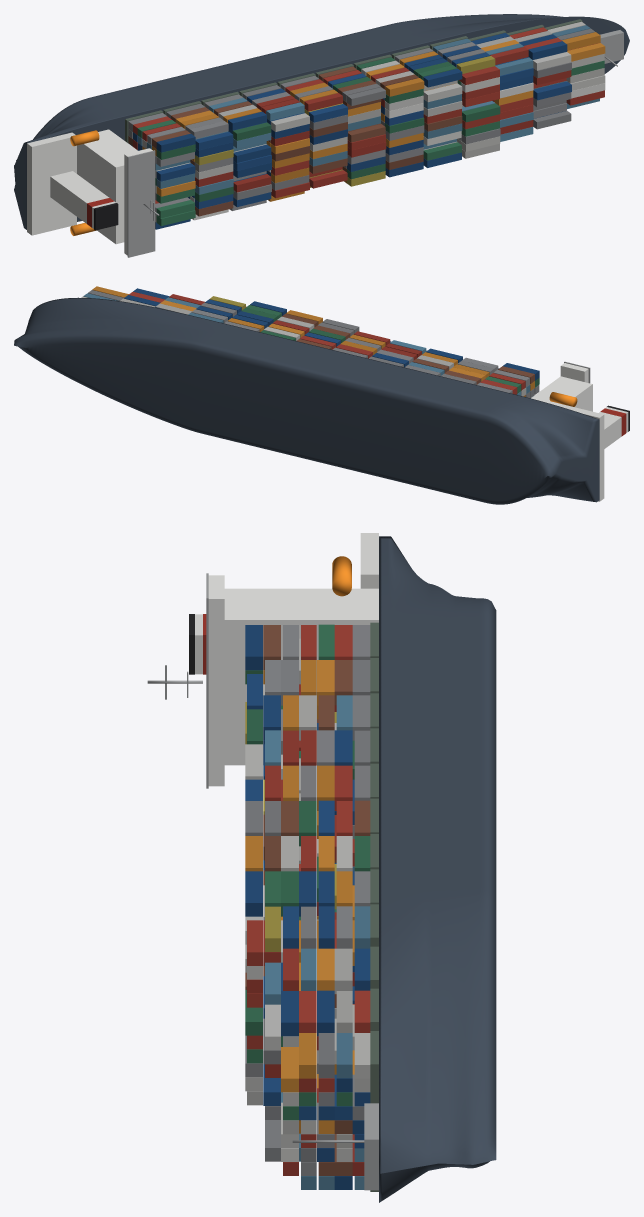
File: ship_container.glb
3 views of the same model, one above another, from view 1: azimuth 30°, elevation 25°; view 2: azimuth 150°, elevation 25°; view 3: azimuth 270°, elevation 25° (orthographic). The views are drawn at different scales.
Parts seen in each view (by area): view 1: Containers, Hull, Poop, Accommodation, BridgeRoof, HatchCovers, Funnel, Forecastle, FunnelTop, BridgeDeck; view 2: Hull, Containers, Accommodation, Poop, Funnel, BridgeDeck; view 3: Hull, Containers, Accommodation, HatchCovers, BridgeDeck, Forecastle, Poop.
Boxes of the visible parts, <box> form: Containers: <box>128,21,605,229</box>; Hull: <box>14,14,629,229</box>; Poop: <box>27,132,76,235</box>; Accommodation: <box>77,129,137,244</box>; BridgeRoof: <box>127,150,155,257</box>; HatchCovers: <box>125,19,582,142</box>; Funnel: <box>50,171,115,228</box>; Forecastle: <box>600,30,623,63</box>; FunnelTop: <box>94,203,118,230</box>; BridgeDeck: <box>124,148,152,255</box>; Hull: <box>14,297,599,504</box>; Containers: <box>81,286,539,398</box>; Accommodation: <box>531,376,592,411</box>; Poop: <box>559,404,604,501</box>; Funnel: <box>599,407,628,448</box>; BridgeDeck: <box>560,363,588,382</box>; Hull: <box>379,536,496,1202</box>; Containers: <box>245,624,370,1189</box>; Accommodation: <box>224,588,378,765</box>; HatchCovers: <box>370,622,378,1191</box>; BridgeDeck: <box>208,575,224,786</box>; Forecastle: <box>364,1103,378,1190</box>; Poop: <box>360,533,378,588</box>.
Size of the model in its own units: 214 by 34 by 56.5.
